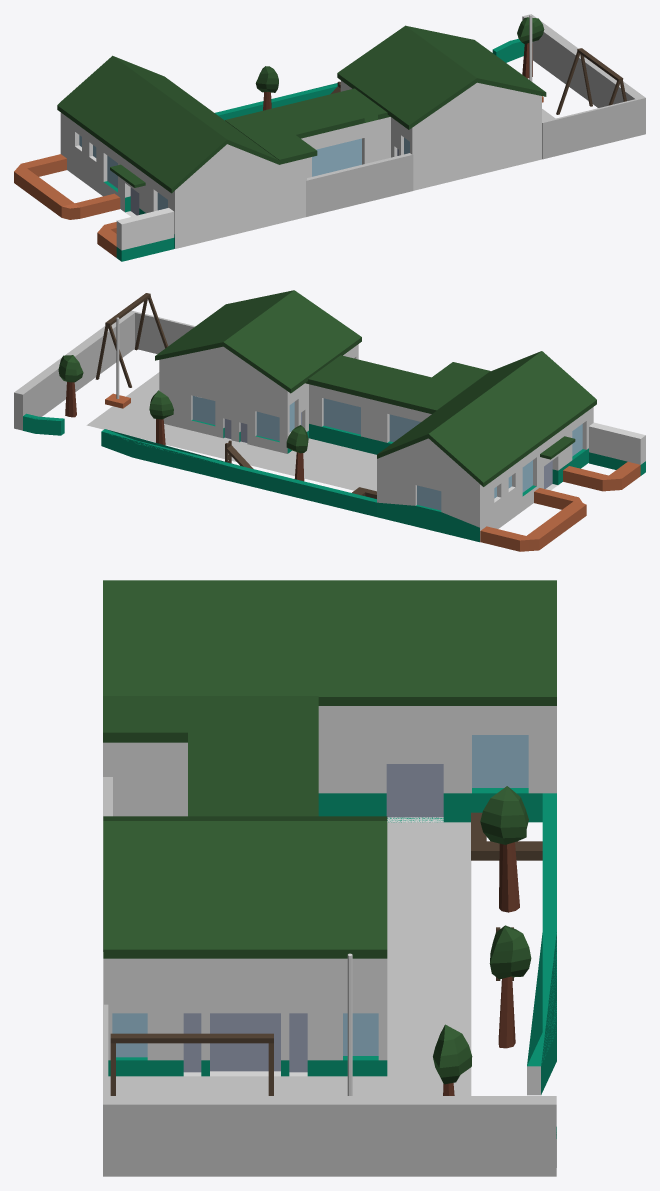
Rendered from jardin.gltf.
The picture shows the model from 3 angles, top to bottom: view 1: azimuth 30°, elevation 25°; view 2: azimuth 150°, elevation 25°; view 3: azimuth 270°, elevation 25°; orthographic projection. The views are drawn at different scales.
Visible parts, largest first — view 1: EdificioPrincipal, EdficioPatio, TapialTrasero, TapialPatiecito, TapialFrente, TapialcitoFrente, Juegos, TCopa1, Tcopa3, Cube; view 2: EdificioPrincipal, EdficioPatio, Patio, TapialTrasero, TapialFrente, TapialcitoFrente, Juegos, TCopa1, TCopa2, Tcopa3, Cube; view 3: EdificioPrincipal, EdficioPatio, TapialTrasero, Patio, Juegos, Tcopa3, TCopa2, TCopa1, Tronco3, Tronco2, MastilPalo.
Part boxes in pixels (box(x1,y1,x2,y2)): EdificioPrincipal: box(57, 39, 524, 248); EdficioPatio: box(337, 25, 546, 190); TapialTrasero: box(522, 14, 645, 159); TapialPatiecito: box(306, 153, 413, 216); TapialFrente: box(97, 208, 174, 261); TapialcitoFrente: box(14, 154, 120, 219); Juegos: box(330, 48, 626, 114); TCopa1: box(517, 17, 544, 44); Tcopa3: box(255, 66, 278, 92); Cube: box(110, 164, 145, 187); EdificioPrincipal: box(23, 351, 596, 542); EdficioPatio: box(155, 290, 361, 453); Patio: box(86, 372, 376, 491); TapialTrasero: box(14, 310, 195, 430); TapialFrente: box(563, 422, 645, 491); TapialcitoFrente: box(480, 488, 586, 551); Juegos: box(95, 293, 376, 498); TCopa1: box(58, 355, 83, 382); TCopa2: box(149, 390, 173, 419); Tcopa3: box(286, 425, 308, 453); Cube: box(540, 436, 575, 459); EdificioPrincipal: box(103, 580, 556, 1167); EdficioPatio: box(103, 816, 387, 1076); TapialTrasero: box(103, 1004, 556, 1176); Patio: box(108, 822, 471, 1095); Juegos: box(110, 812, 542, 1095); Tcopa3: box(480, 786, 528, 844); TCopa2: box(489, 925, 531, 979); TCopa1: box(433, 1024, 472, 1084); Tronco3: box(499, 842, 519, 912); Tronco2: box(498, 976, 515, 1048); MastilPalo: box(347, 953, 352, 1095).
Bounding box in the file's own units: 9.21 × 1.66 × 3.49.
